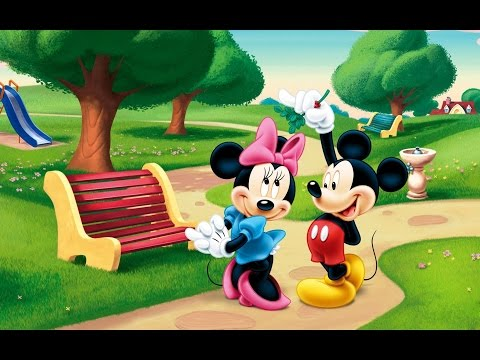Mickey: (302, 127, 411, 221)
